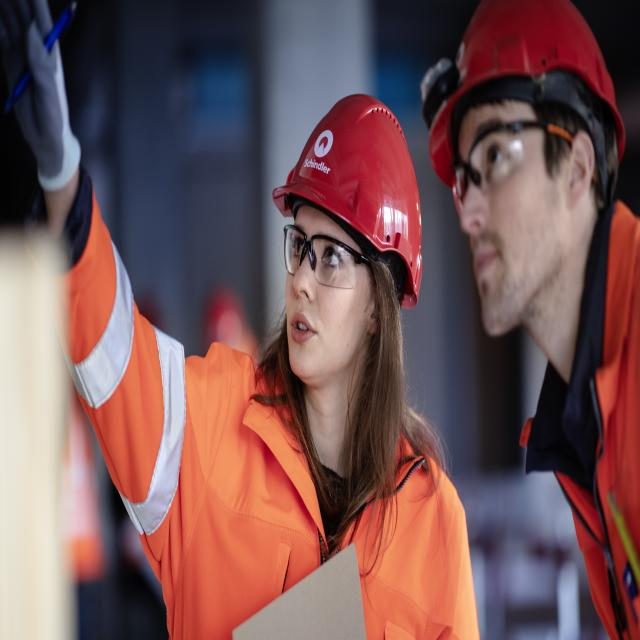goggles: (442, 116, 582, 204), (278, 220, 389, 296)
helmet: (414, 0, 633, 182), (273, 68, 429, 287)
vest: (105, 336, 478, 640), (519, 180, 640, 640)
